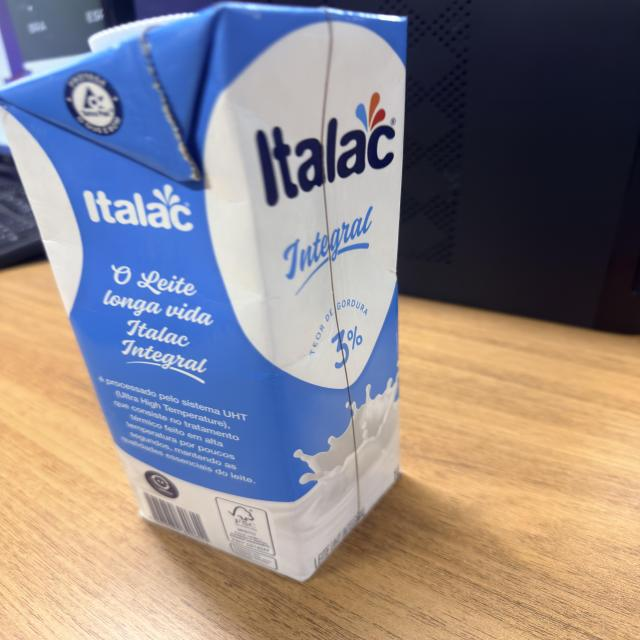Caixa de Leite: (4, 3, 407, 585)
